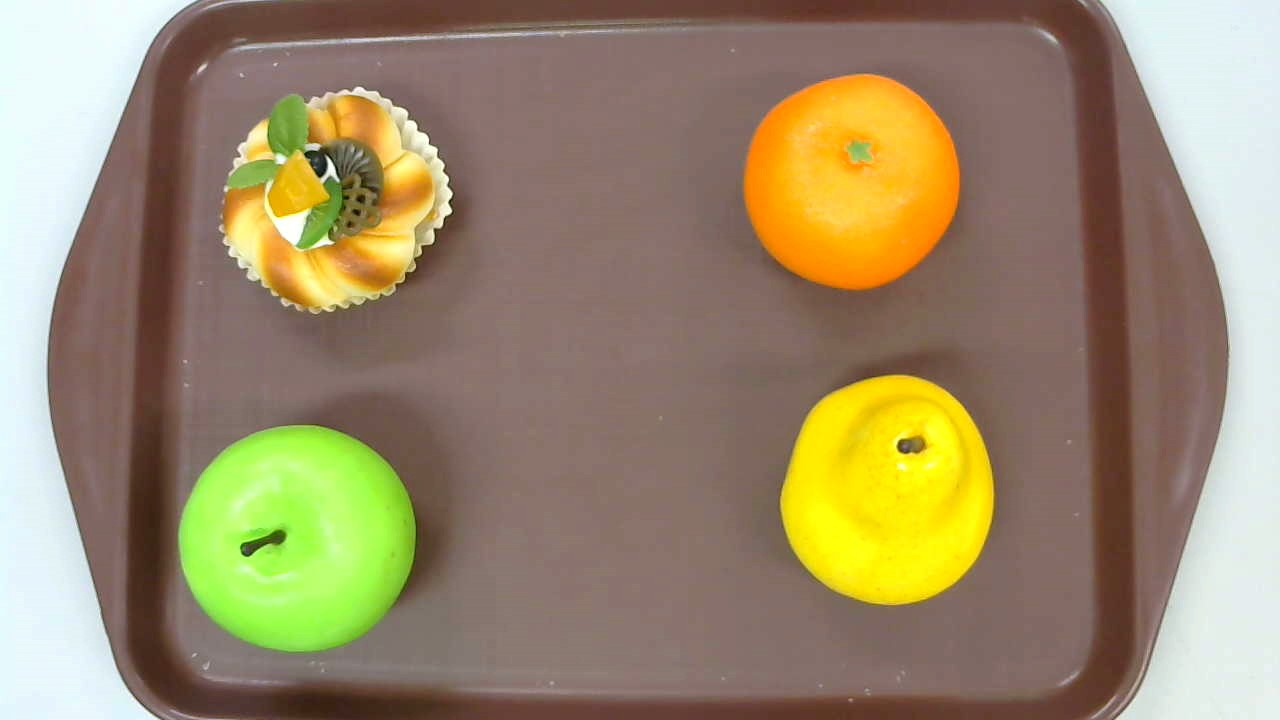fruit tart: (218, 86, 453, 315)
green apple: (177, 423, 416, 651)
orange: (743, 72, 961, 291)
yellow pear: (780, 374, 993, 606)
